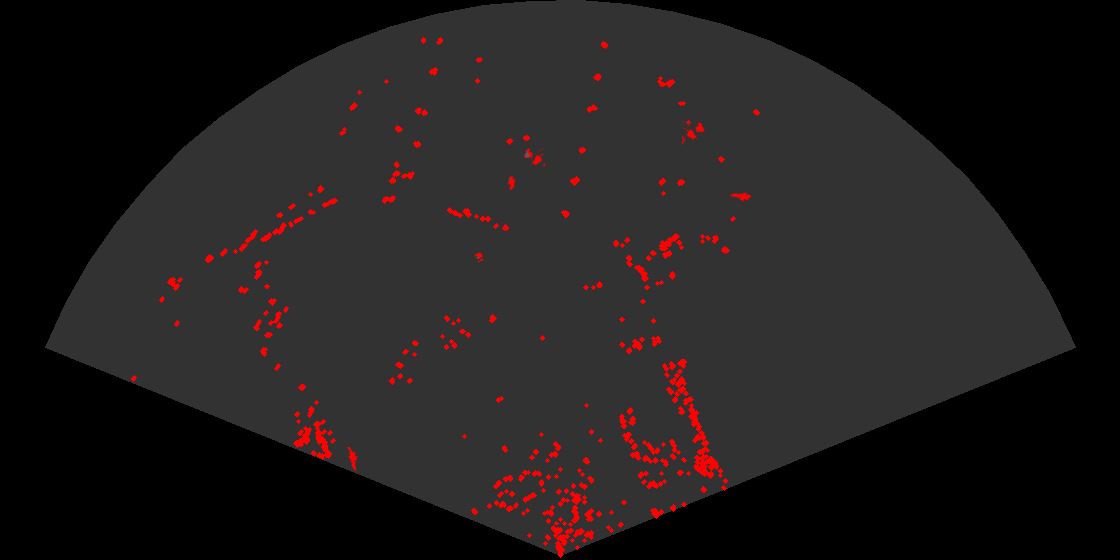AUV: (506, 174, 516, 192)
ball: (473, 251, 485, 264)
cage: (682, 119, 706, 147), (522, 146, 545, 169)
frogman: (346, 447, 360, 471), (728, 191, 751, 203)
